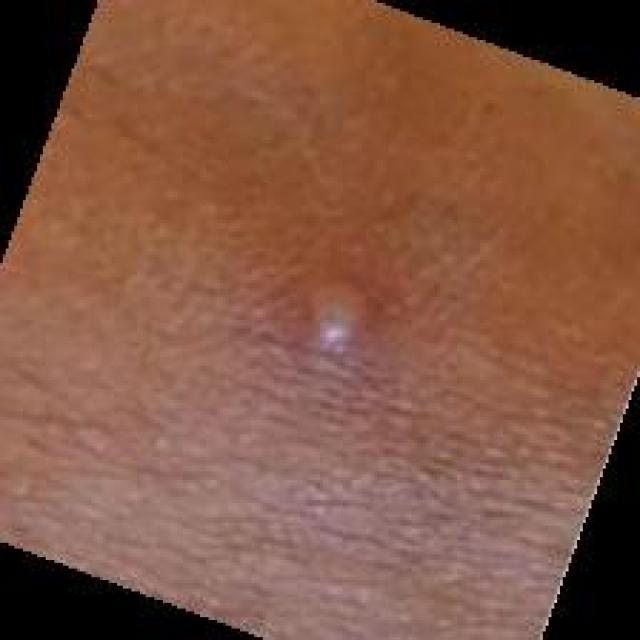monkeypox: (107, 108, 517, 632)
